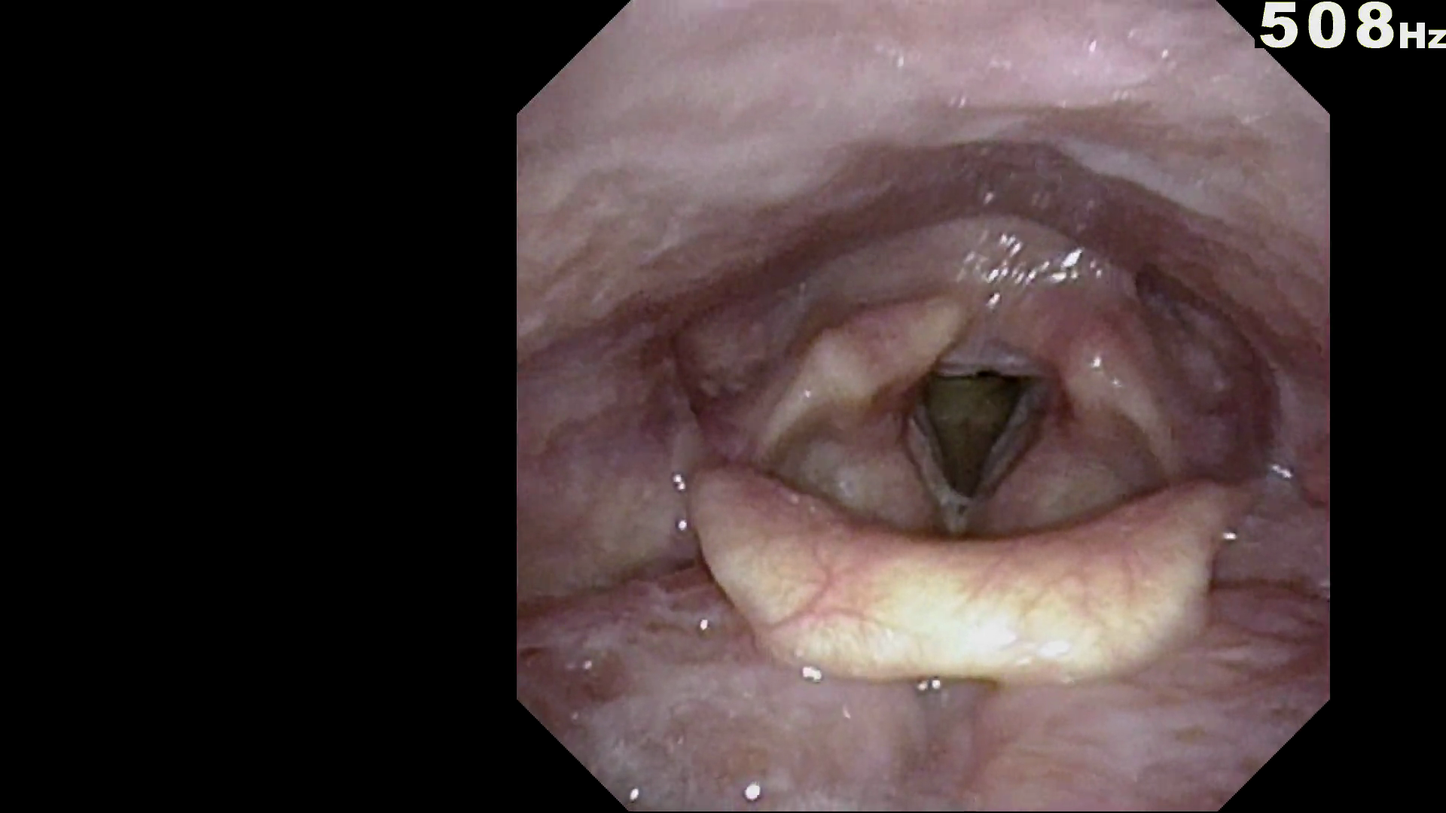epiglottis: (661, 412, 1255, 709)
trachea: (864, 326, 1072, 540)
